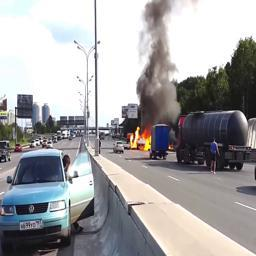fire: (129, 126, 151, 151)
